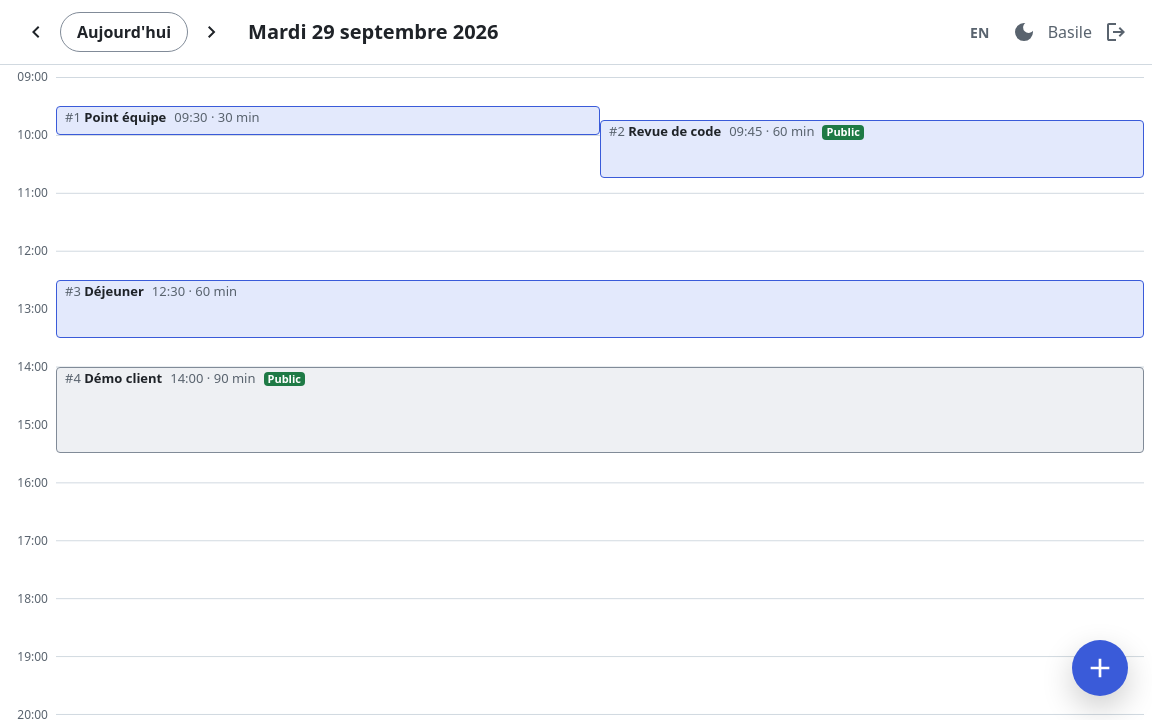
create › when the server refuses, the event goes away and the reason is shown
Expected: the heading "mardi 29 septembre 2026" is shown, [248,20,498,44]
Click the button named "Nouvel événement" at [1100, 668], box [1072,640,1128,696]
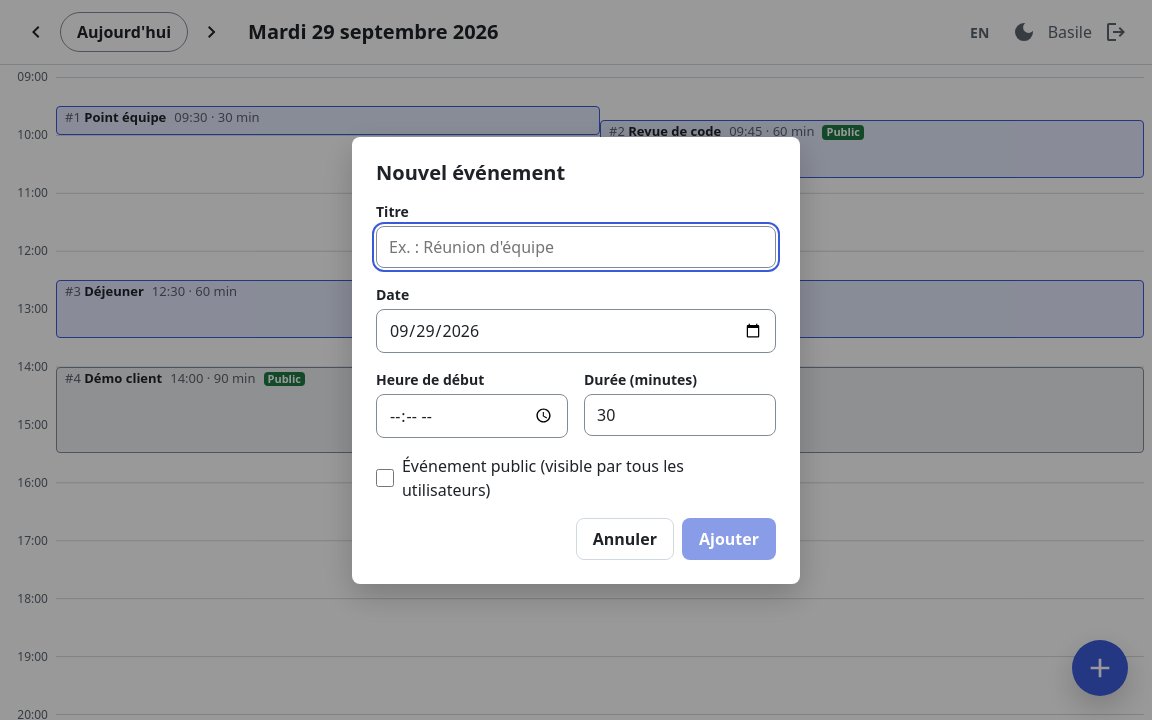
Type "Raté" into the field labelled "Titre" at [576, 246], box [376,226,776,268]
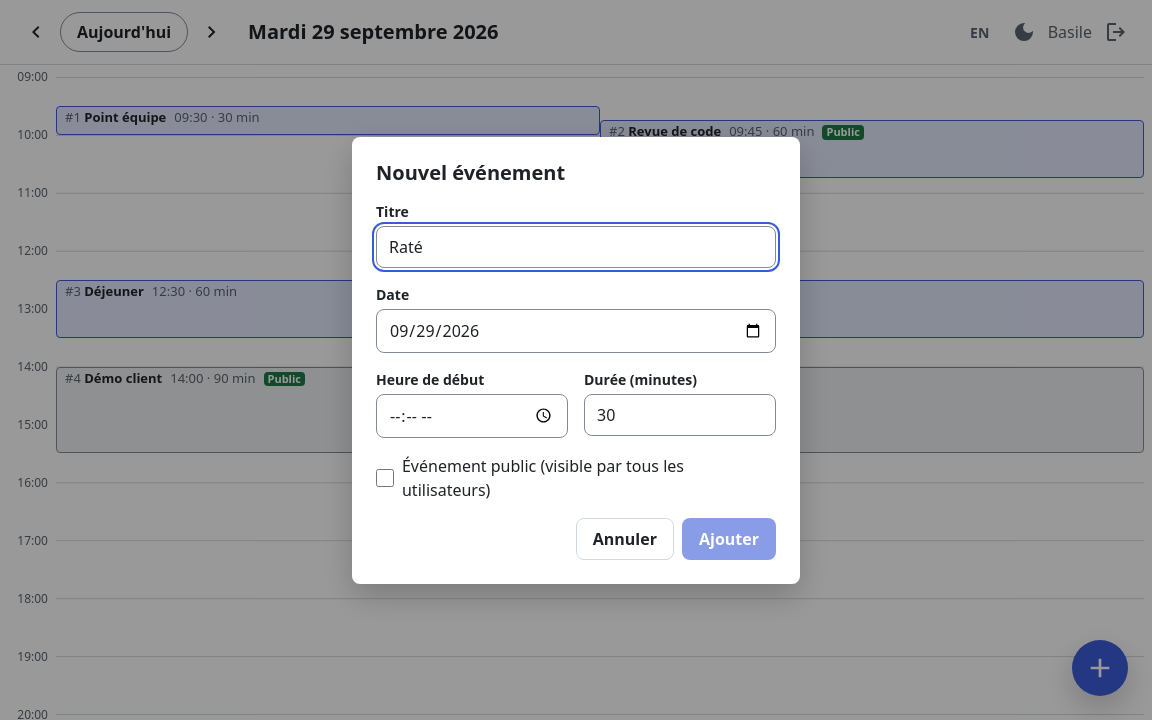
Type "15:00" into the time field labelled "Heure de début" at [472, 416], box [376,394,568,438]
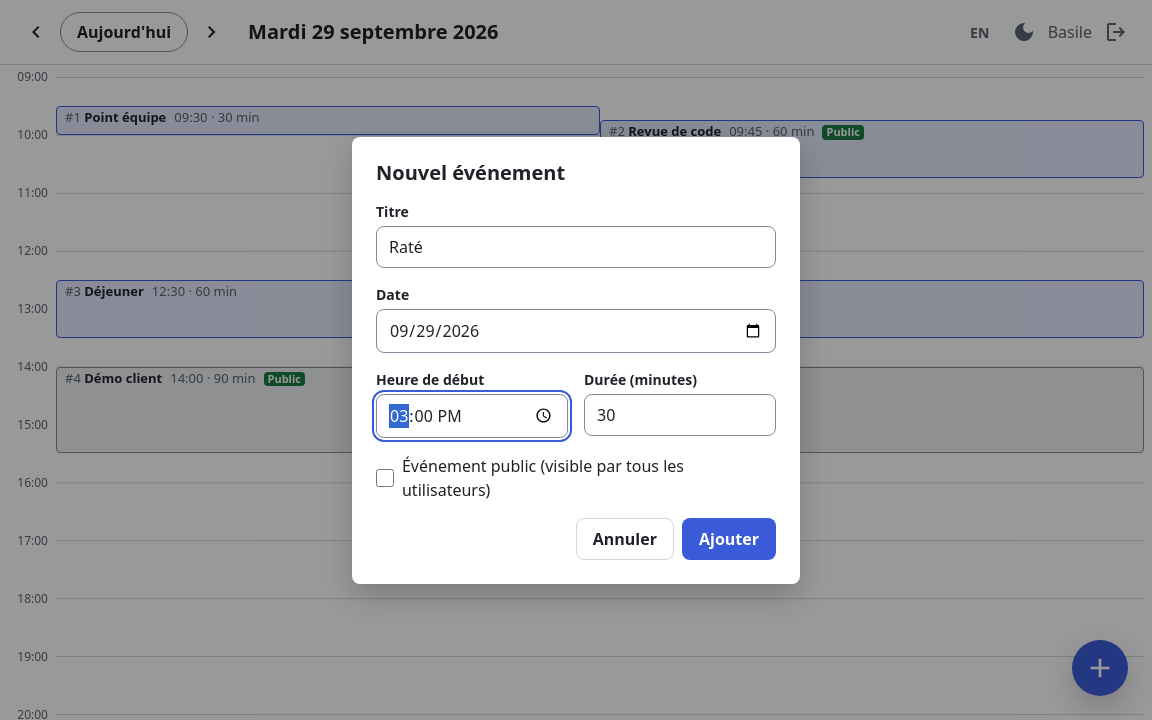
Click the button "Ajouter" at [729, 538], box [682,518,776,560]
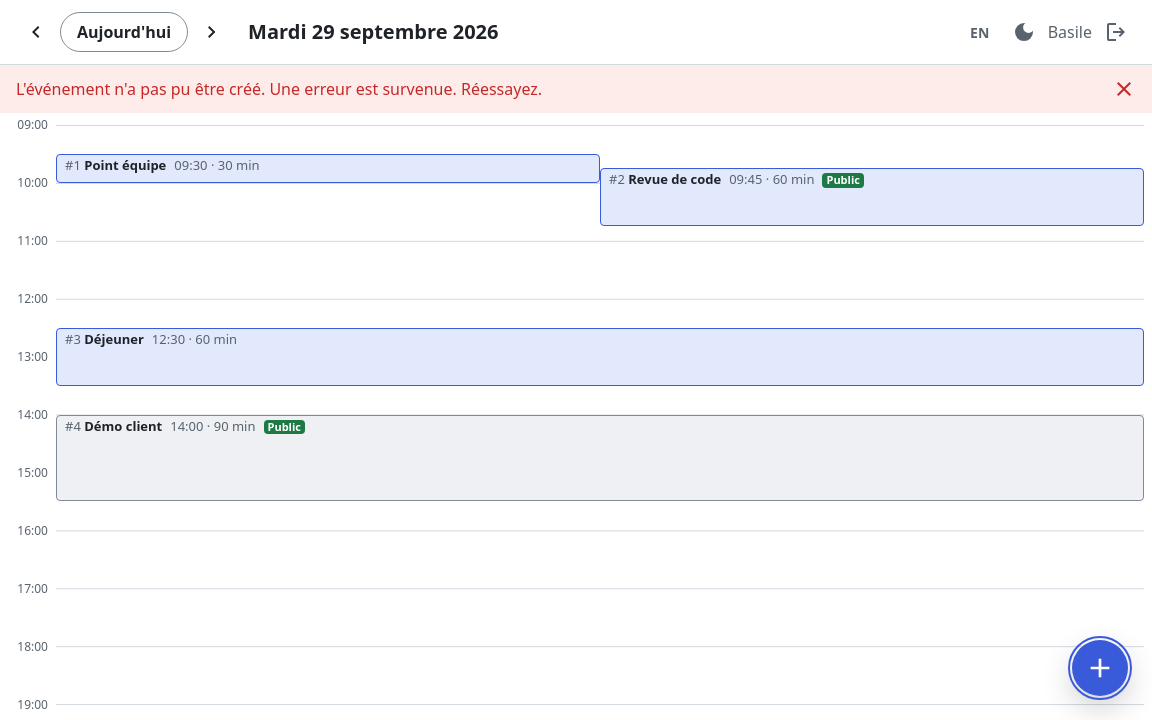
Expected: the text "Raté" is not shown
Now the message reads "L'événement n'a pas pu être créé. Une erreur est survenue. Réessayez.", box [16,78,542,100]
Click the button named "Masquer le message" at [1124, 89], box [1104,69,1144,109]
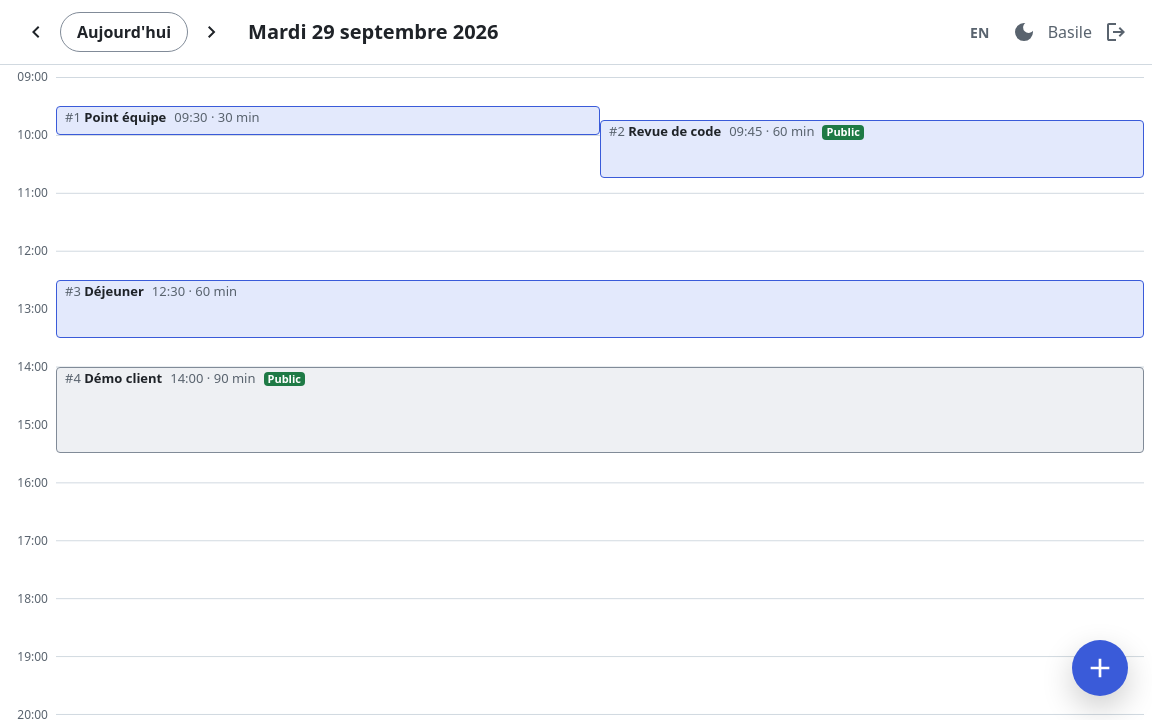
Now the message "L'événement n'a pas pu être créé. Une erreur est survenue. Réessayez." is gone
